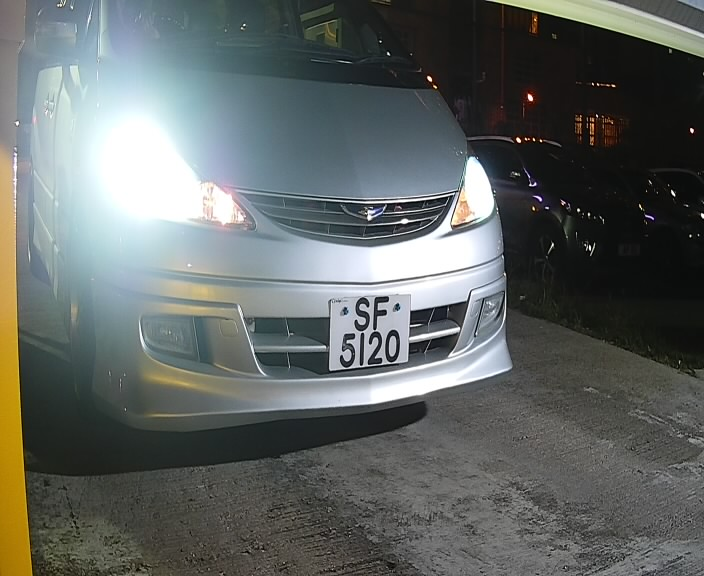Car: (4, 2, 532, 459)
License Plate: (321, 285, 419, 379)
